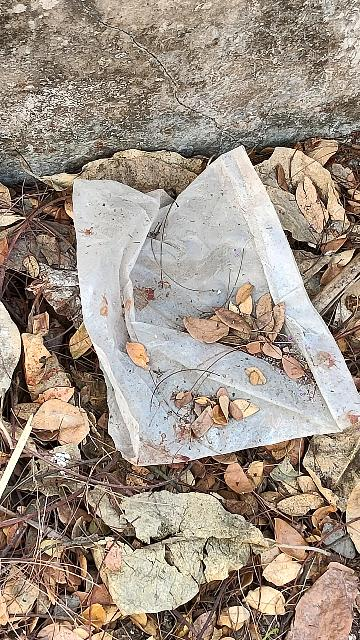polythene: (64, 171, 360, 464)
